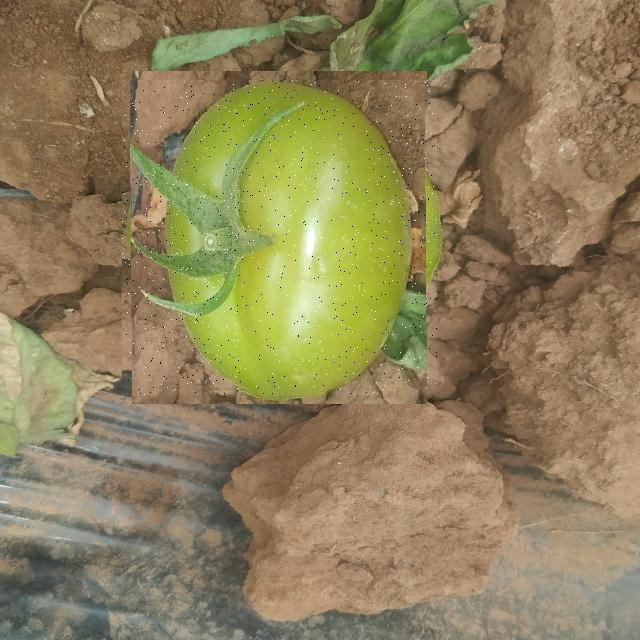Unripe Tomato: (122, 80, 437, 395)
